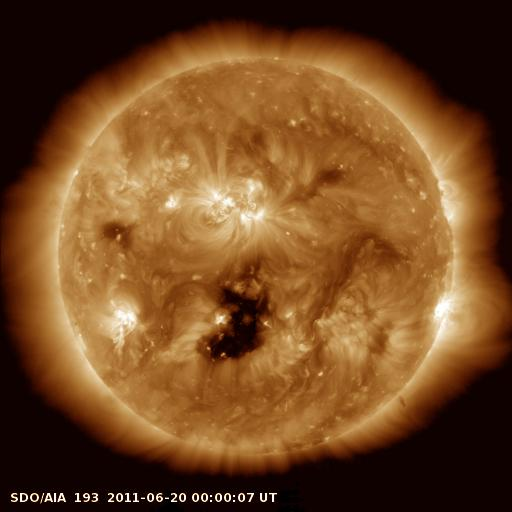coronal_hole: (198, 283, 282, 367), (92, 214, 147, 252)
